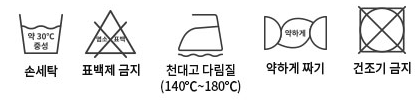KR_gentle_wring: (258, 12, 331, 55)
KR_hand_wash_30_neutral: (17, 10, 64, 58)
KR_no_chlorine_bleach: (80, 5, 140, 59)
KR_no_tumble_dry: (355, 3, 410, 56)
